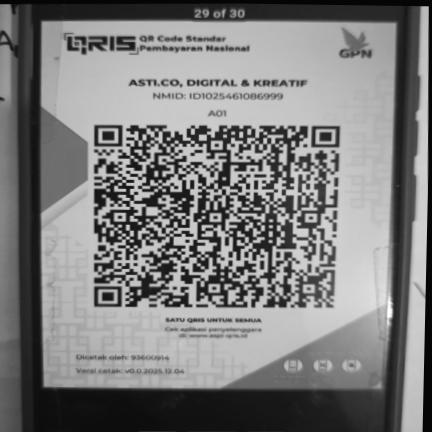Cara Pakai QRIS: (262, 348, 379, 385)
Cek Aplikasi Penyelenggara: (159, 325, 266, 341)
Dicetak Oleh: (71, 351, 173, 362)
Logo GPN: (333, 25, 377, 65)
Logo dan deskripsi QRIS: (53, 28, 259, 59)
Nama Merchant: (121, 73, 315, 90)
National Merchant ID: (121, 90, 313, 103)
QR Code: (88, 120, 346, 312)
Slogan: (159, 314, 266, 324)
Terminal ID: (198, 107, 235, 119)
Versi Cetak: (71, 363, 191, 376)
